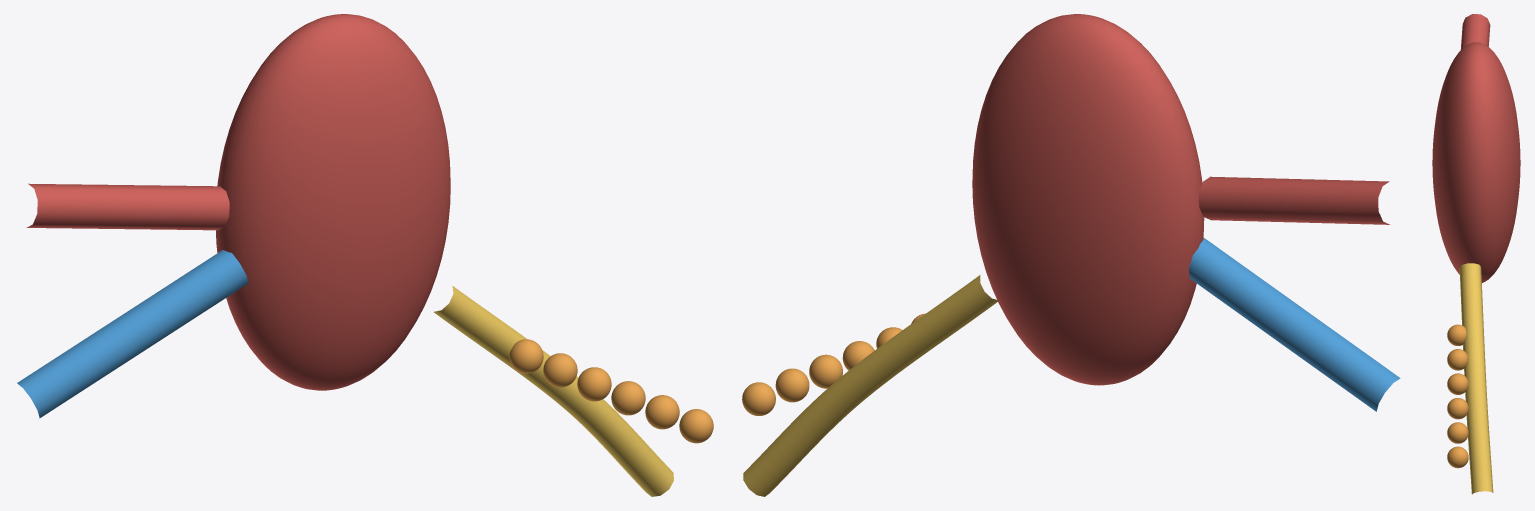
File: bio-p1-kidney-filtration.glb
The picture shows the model from 3 angles, left to right: view 1: azimuth 30°, elevation 25°; view 2: azimuth 150°, elevation 25°; view 3: azimuth 270°, elevation 25°; orthographic projection. The views are drawn at different scales.
Visible parts, largest first — view 1: kidney-filter-bean, renal-vein-clean-outlet, renal-artery-inlet, ureter-waste-drain, filtered-waste-particle-1, filtered-waste-particle-3, filtered-waste-particle-2, filtered-waste-particle-4, filtered-waste-particle-5, filtered-waste-particle-0; view 2: kidney-filter-bean, ureter-waste-drain, renal-vein-clean-outlet, renal-artery-inlet, filtered-waste-particle-4, filtered-waste-particle-5, filtered-waste-particle-3; view 3: kidney-filter-bean, ureter-waste-drain, renal-artery-inlet, filtered-waste-particle-4, filtered-waste-particle-5, filtered-waste-particle-2, filtered-waste-particle-3, filtered-waste-particle-1, filtered-waste-particle-0.
Boxes of the visible parts, x1,y1,x2,y2 form: kidney-filter-bean: (216,14,450,390); renal-vein-clean-outlet: (17,250,248,418); renal-artery-inlet: (26,183,229,230); ureter-waste-drain: (433,286,673,496); filtered-waste-particle-1: (543,353,577,387); filtered-waste-particle-3: (611,381,645,415); filtered-waste-particle-2: (577,367,611,401); filtered-waste-particle-4: (645,395,679,429); filtered-waste-particle-5: (679,409,713,443); filtered-waste-particle-0: (509,339,543,373); kidney-filter-bean: (972,14,1204,385); ureter-waste-drain: (743,275,997,496); renal-vein-clean-outlet: (1189,238,1400,411); renal-artery-inlet: (1198,176,1389,224); filtered-waste-particle-4: (775,368,809,402); filtered-waste-particle-5: (742,382,775,415); filtered-waste-particle-3: (809,354,842,388); kidney-filter-bean: (1432,42,1520,282); ureter-waste-drain: (1459,263,1493,494); renal-artery-inlet: (1460,14,1490,49); filtered-waste-particle-4: (1447,422,1468,443); filtered-waste-particle-5: (1447,446,1468,468); filtered-waste-particle-2: (1447,373,1468,394); filtered-waste-particle-3: (1447,398,1468,419); filtered-waste-particle-1: (1447,349,1468,370); filtered-waste-particle-0: (1447,324,1466,345).
Size of what is drawn, in the model's own units: 1.59 by 1.26 by 0.2856.
